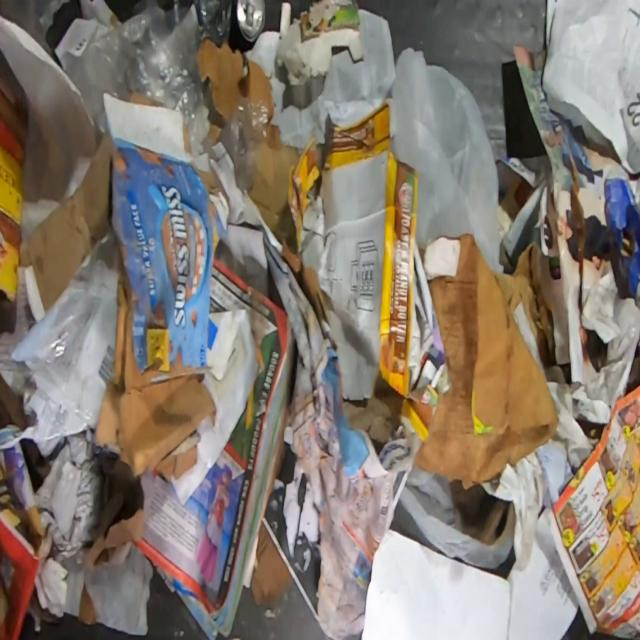cardboard: (94, 135, 230, 480), (342, 150, 440, 443), (18, 131, 116, 310), (288, 105, 395, 252), (274, 0, 362, 85), (0, 52, 28, 301), (250, 521, 294, 609)
soft_plastic: (390, 45, 504, 278), (0, 233, 120, 447), (76, 0, 235, 156), (216, 96, 270, 197)
